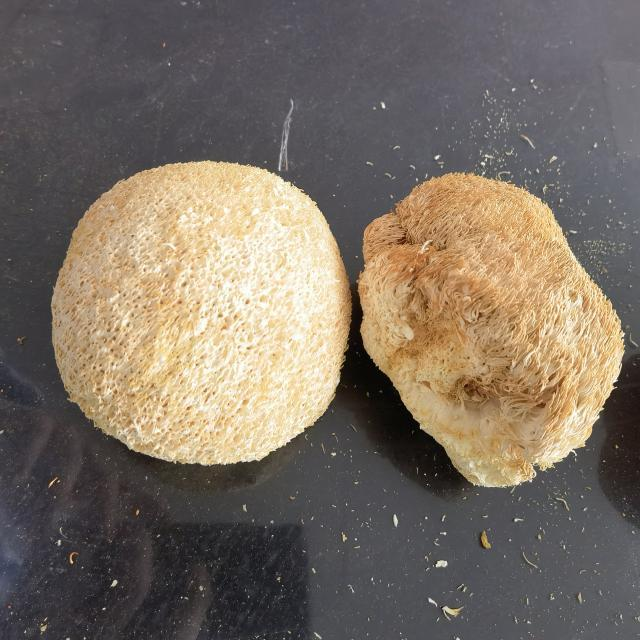Hericium erinaceus: (51, 159, 349, 459), (366, 173, 624, 488)
